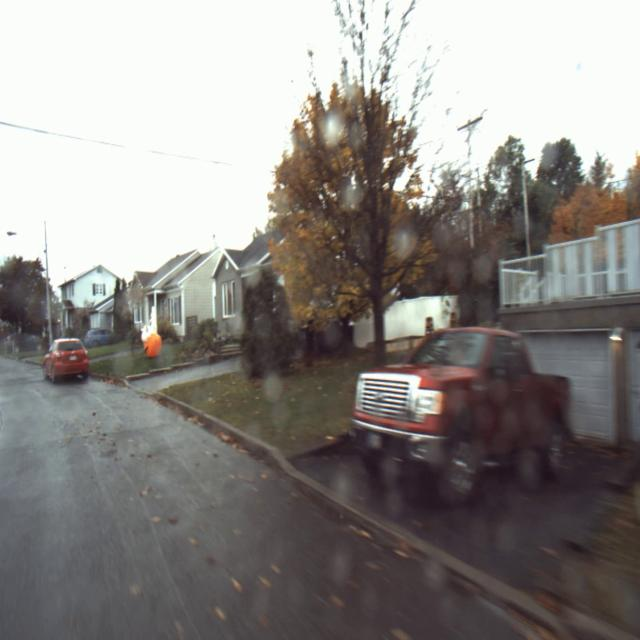car: (37, 330, 92, 389)
